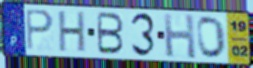3: (127, 11, 158, 58)
B: (96, 10, 126, 55)
H: (162, 13, 197, 61), (58, 10, 87, 54)
O: (196, 15, 228, 61)
P: (24, 8, 55, 52)
